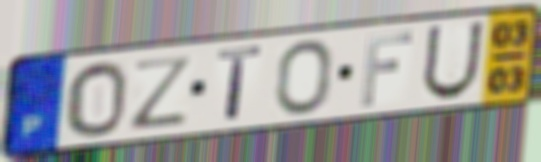F: (358, 29, 417, 110)
O: (64, 59, 130, 139), (274, 37, 334, 117)
T: (215, 43, 266, 124)
U: (419, 19, 488, 104)
Z: (130, 53, 198, 132)
